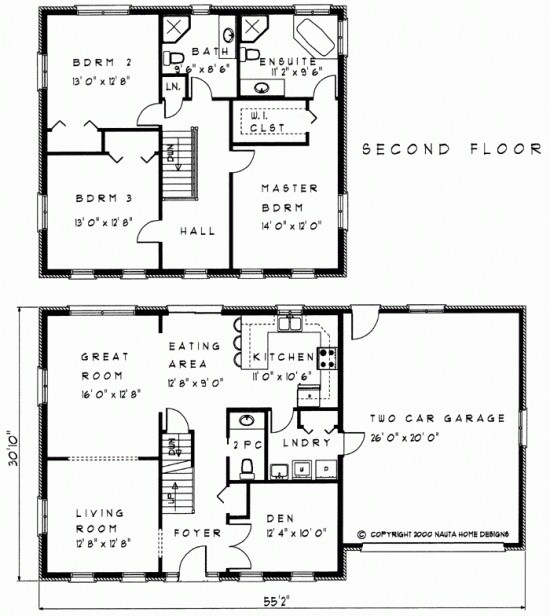door: (176, 537, 214, 588), (298, 67, 336, 105), (347, 305, 380, 348), (230, 516, 257, 567), (159, 407, 198, 442), (338, 430, 371, 461), (131, 217, 164, 243), (268, 409, 293, 443), (190, 79, 221, 105), (133, 103, 166, 127), (230, 145, 252, 177)
room: (31, 2, 349, 278), (38, 300, 344, 583)
wall: (397, 297, 454, 318), (240, 258, 272, 292), (67, 264, 98, 288), (181, 261, 212, 284), (289, 263, 320, 280), (121, 255, 140, 278)
window: (72, 299, 140, 324), (30, 47, 57, 96), (75, 4, 136, 22), (27, 191, 52, 234), (327, 16, 355, 54), (30, 365, 54, 409), (296, 3, 336, 28), (121, 564, 151, 591), (336, 196, 356, 234), (518, 401, 535, 445), (292, 563, 320, 589), (238, 562, 262, 586), (72, 565, 102, 584), (38, 500, 53, 534)
